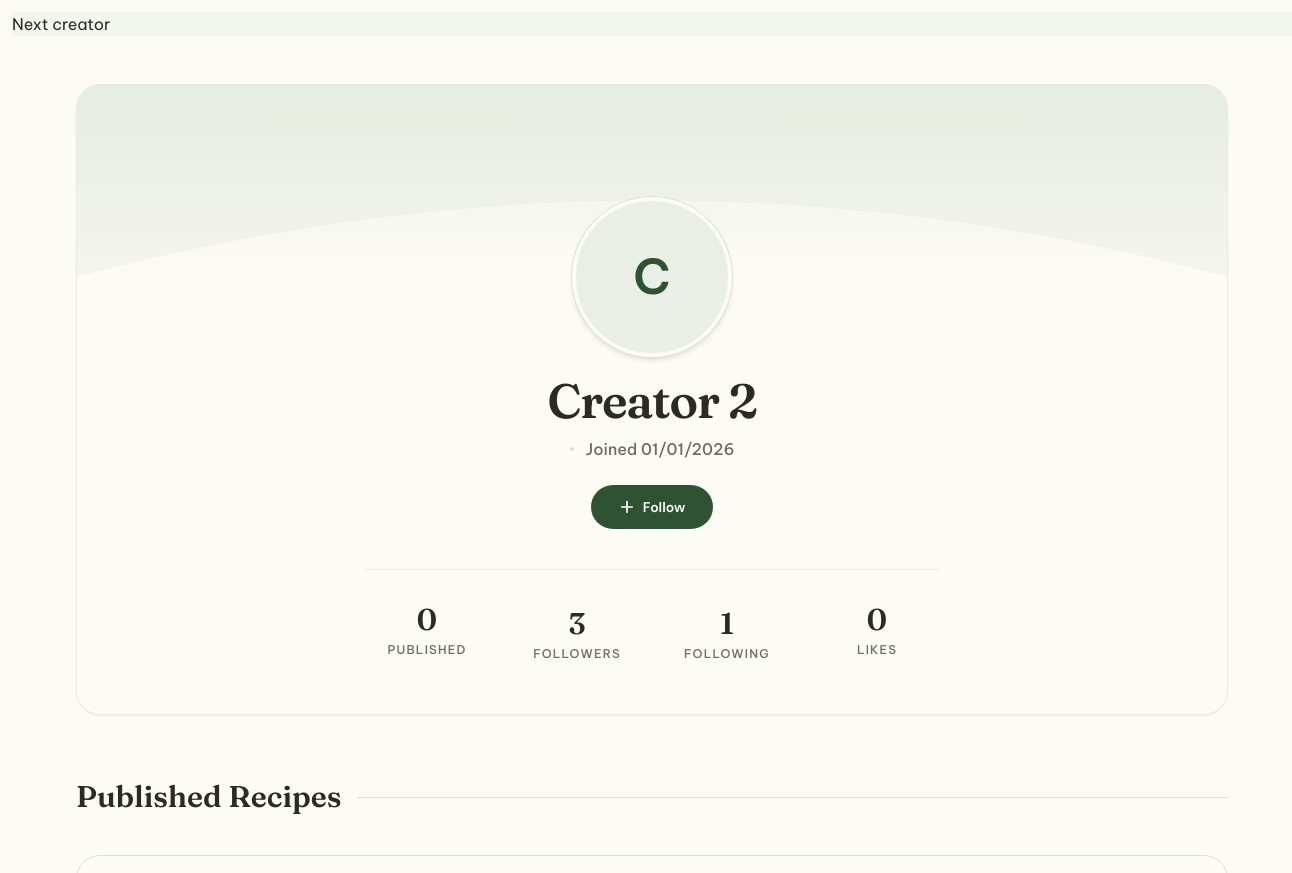
follow reveals opt-in, serializes updates, supports off and hides preference after unfollow
Later steps or results of the test are not shown.
What coordinates should you click on to do the following:
click the button "Follow"
I would click on:
 (652, 507)
Its box is [591,485,713,529].
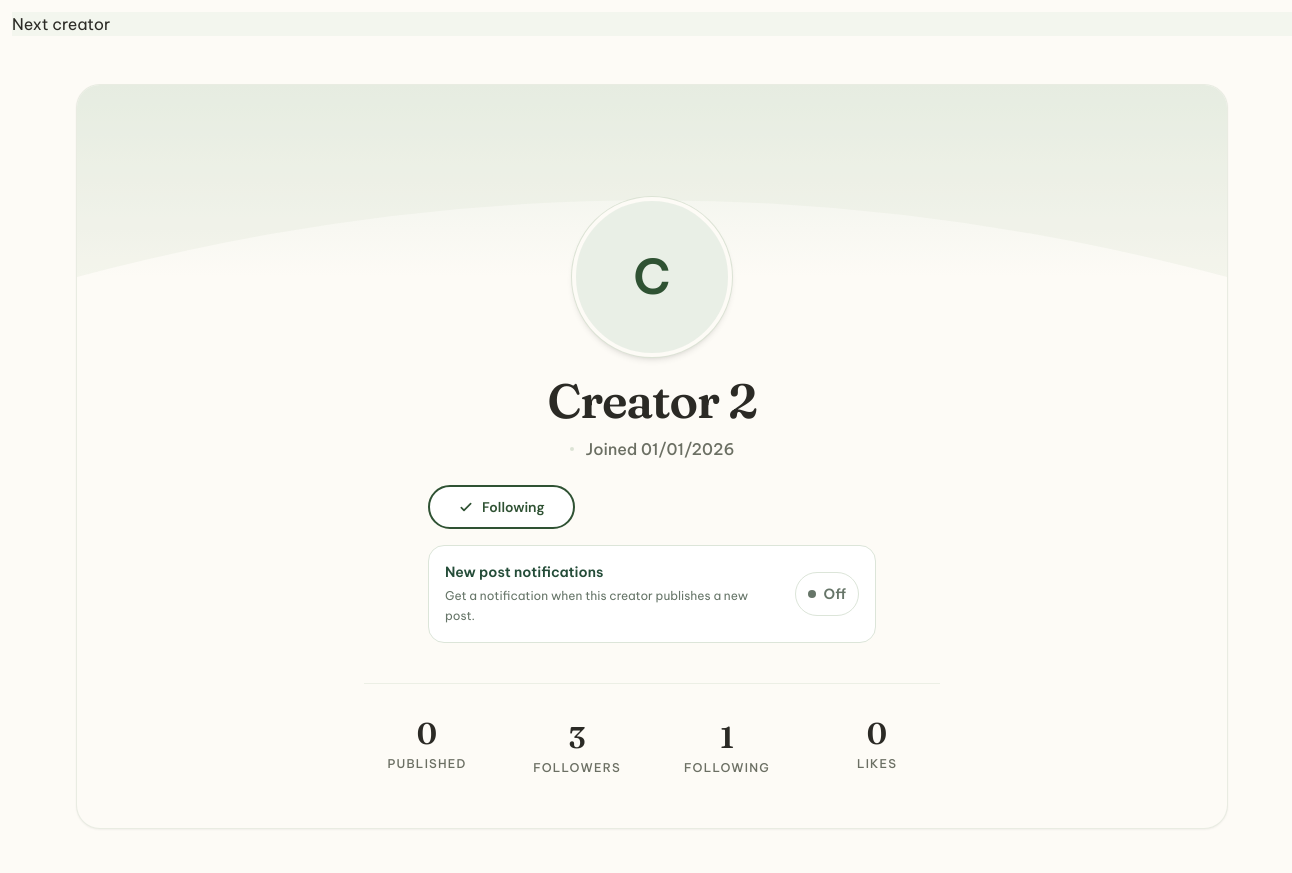
What coordinates should you click on to do the following:
click the switch labelled "Off"
I would click on:
 (827, 594)
Its box is [795,572,859,616].
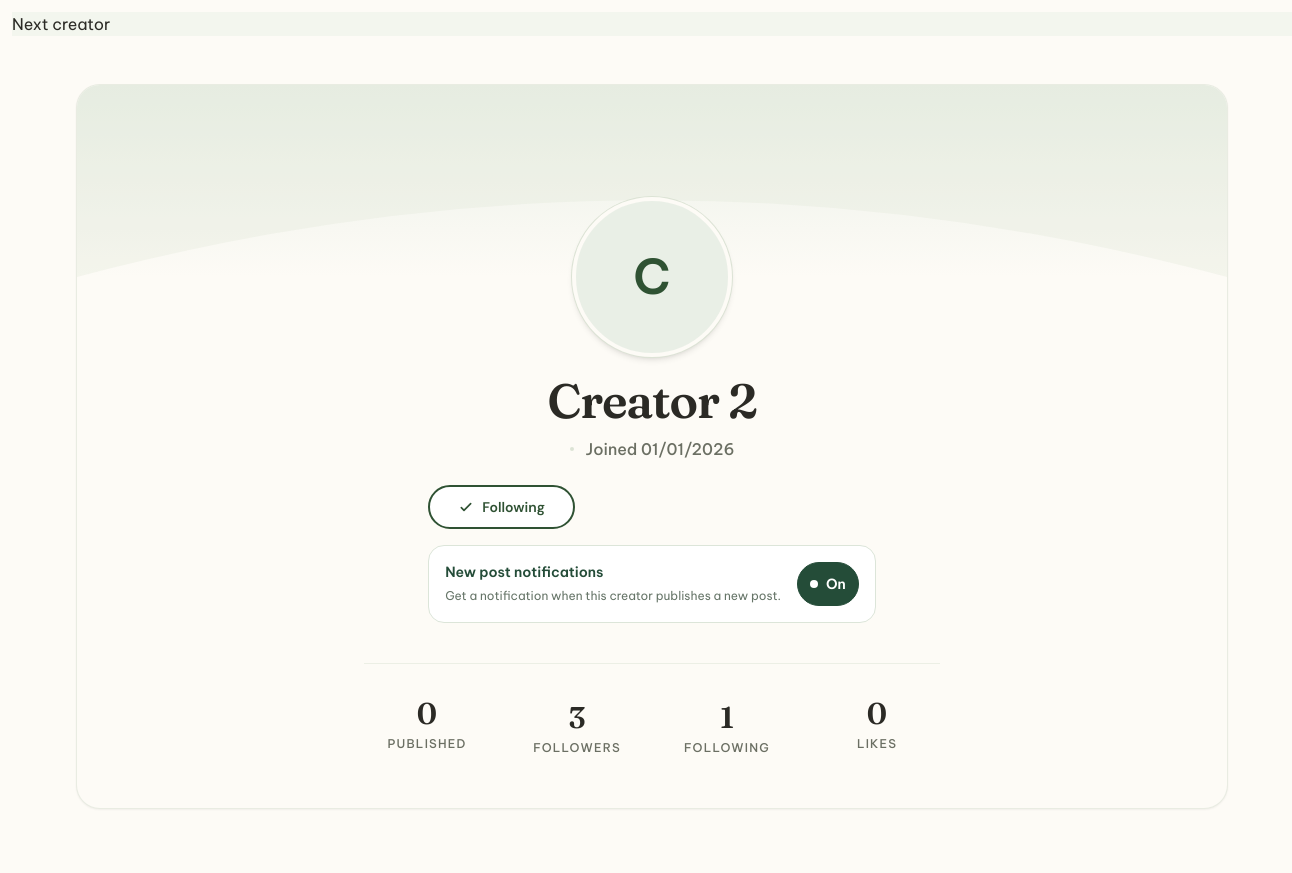
Check: the switch labelled "On" is checked
What coordinates should you click on to do the following:
click the switch labelled "On"
I would click on:
 (828, 584)
Its box is [797,562,859,606].
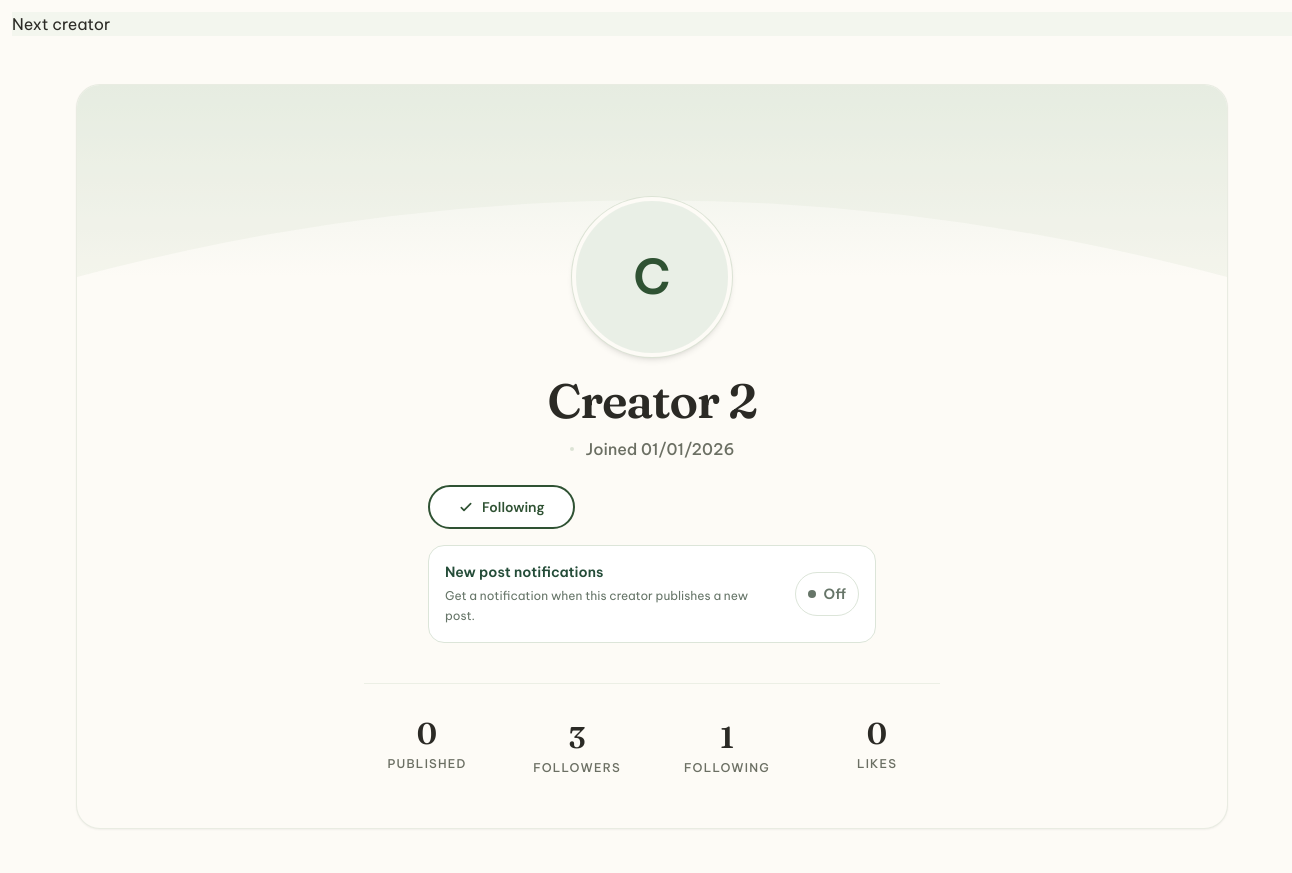
Check: the switch labelled "Off" is not checked, box [795,572,859,616]
What coordinates should you click on to do the following:
click the button "Following"
I would click on:
 (501, 507)
Its box is [428,485,575,529].
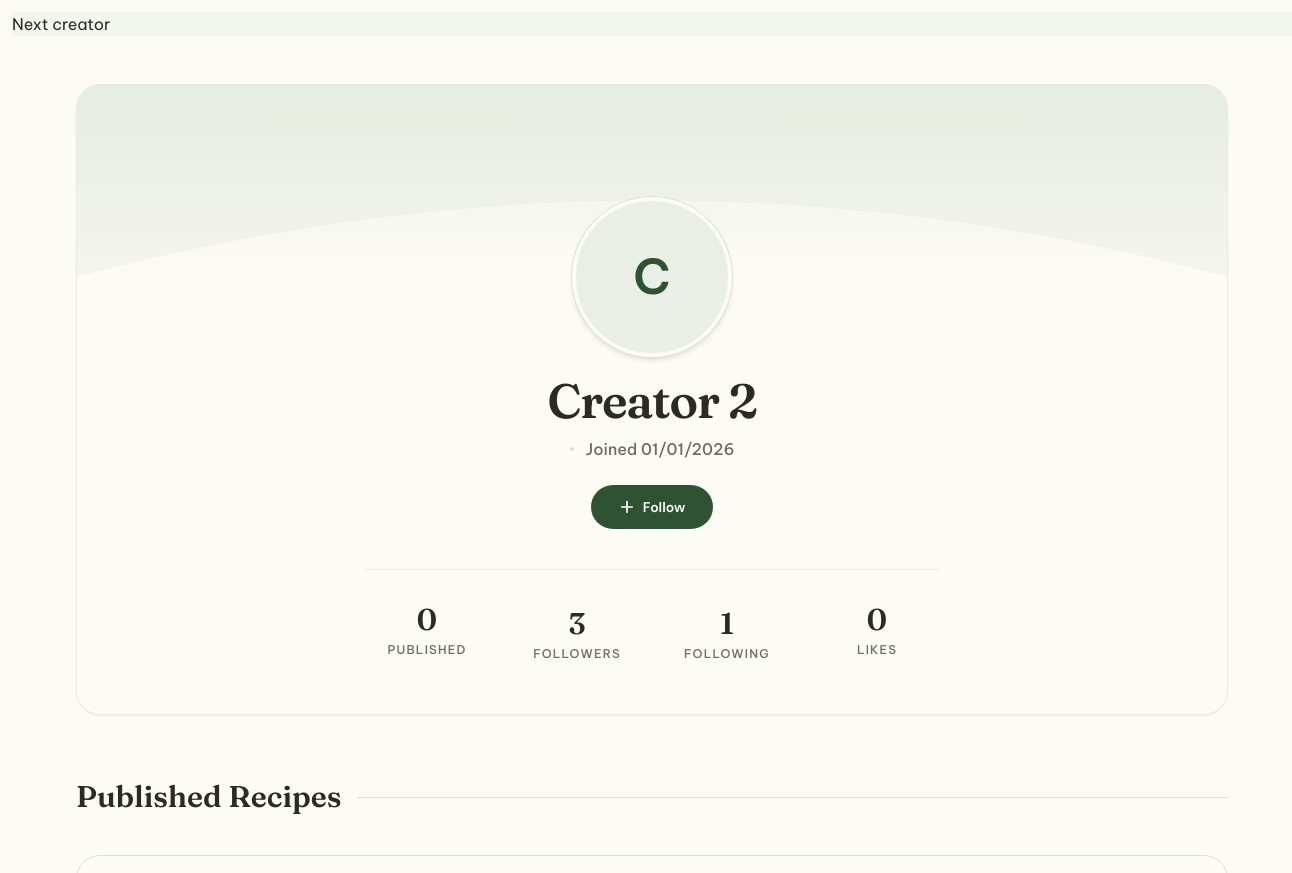
Check: the switch is gone
